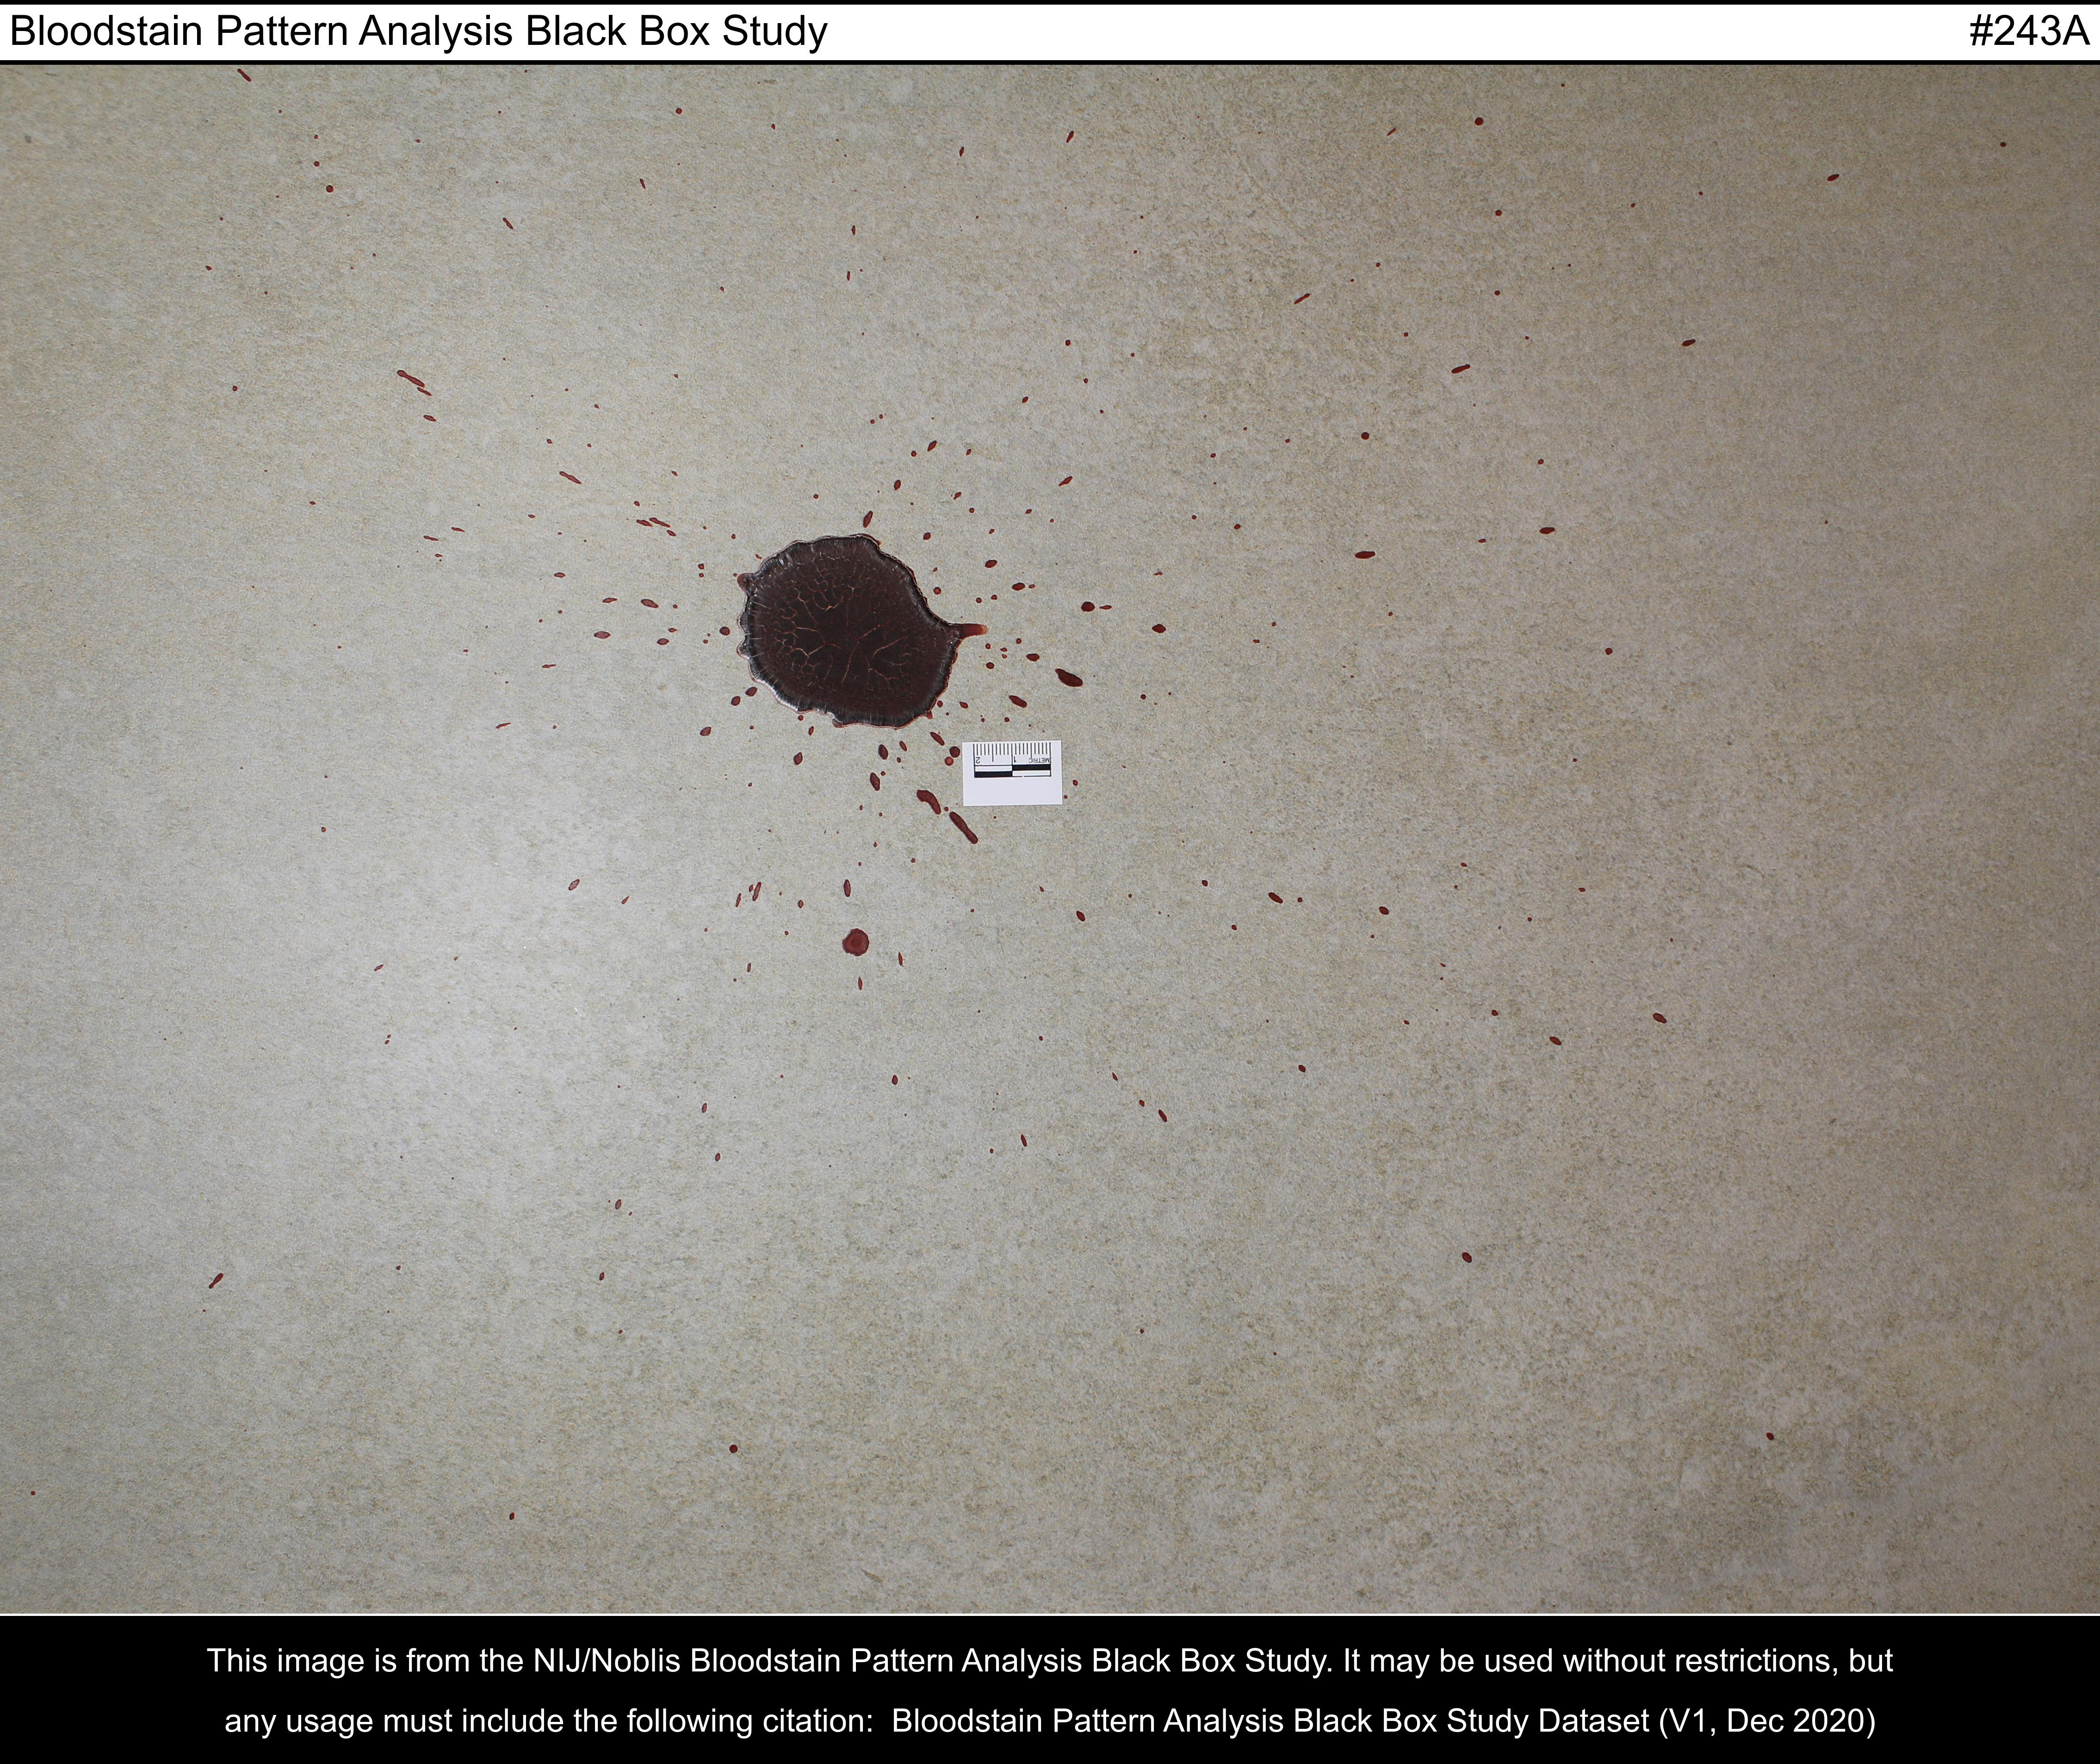Passive: (667, 479, 1090, 740)
